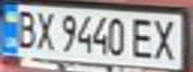0: (106, 15, 130, 57)
4: (90, 12, 112, 55), (75, 12, 93, 54)
9: (54, 11, 78, 53)
B: (9, 7, 39, 50)
E: (127, 15, 160, 61)
X: (148, 16, 184, 62), (30, 8, 57, 52)
